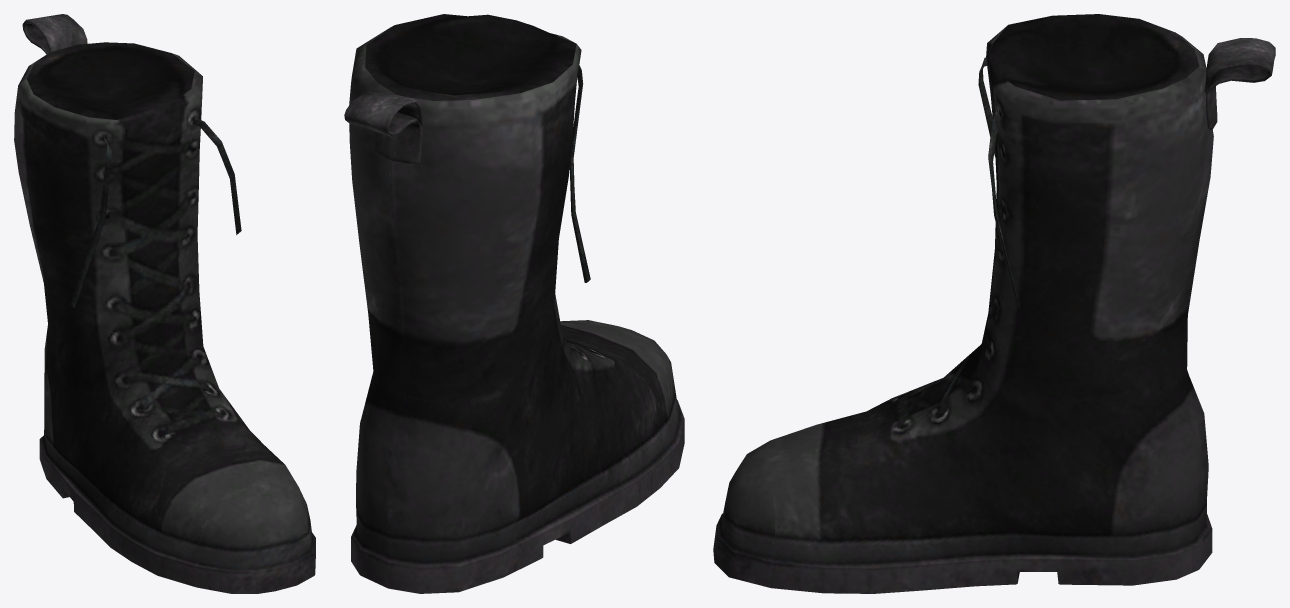
Rendered from boots_right.dae.
The picture shows the model from 3 angles, left to right: view 1: azimuth 30°, elevation 25°; view 2: azimuth 150°, elevation 25°; view 3: azimuth 270°, elevation 25°; orthographic projection. The views are drawn at different scales.
Visible parts, largest first — view 1: Boots; view 2: Boots; view 3: Boots.
Boxes of the visible parts, x1,y1,x2,y2 form: Boots: [14, 14, 315, 593]; Boots: [344, 14, 684, 593]; Boots: [713, 14, 1275, 593].
Bounding box in the file's own units: 0.1864 × 0.4105 × 0.4176.
